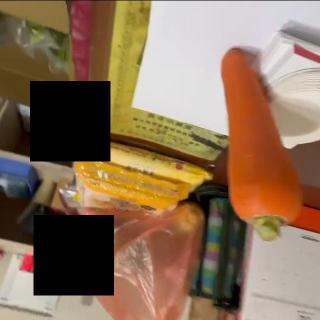carrot: (218, 48, 302, 238)
